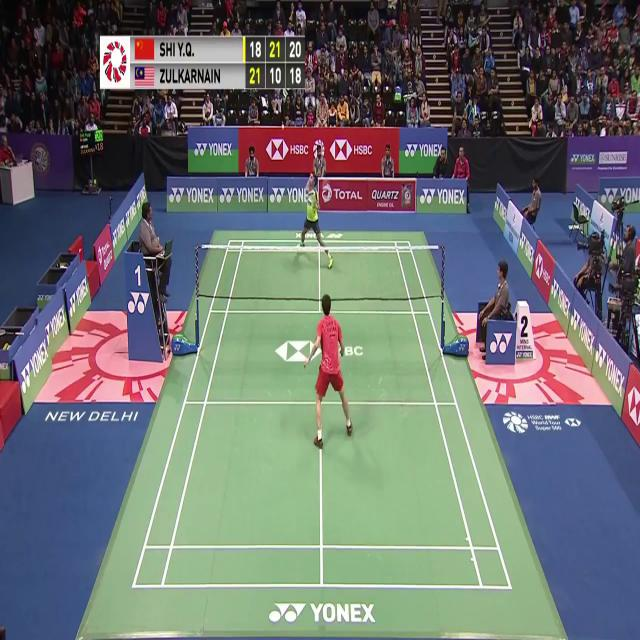Shuttlecock: (280, 122, 287, 134)
